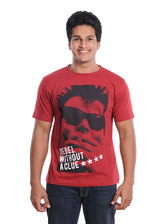clothoes: (31, 62, 135, 187)
